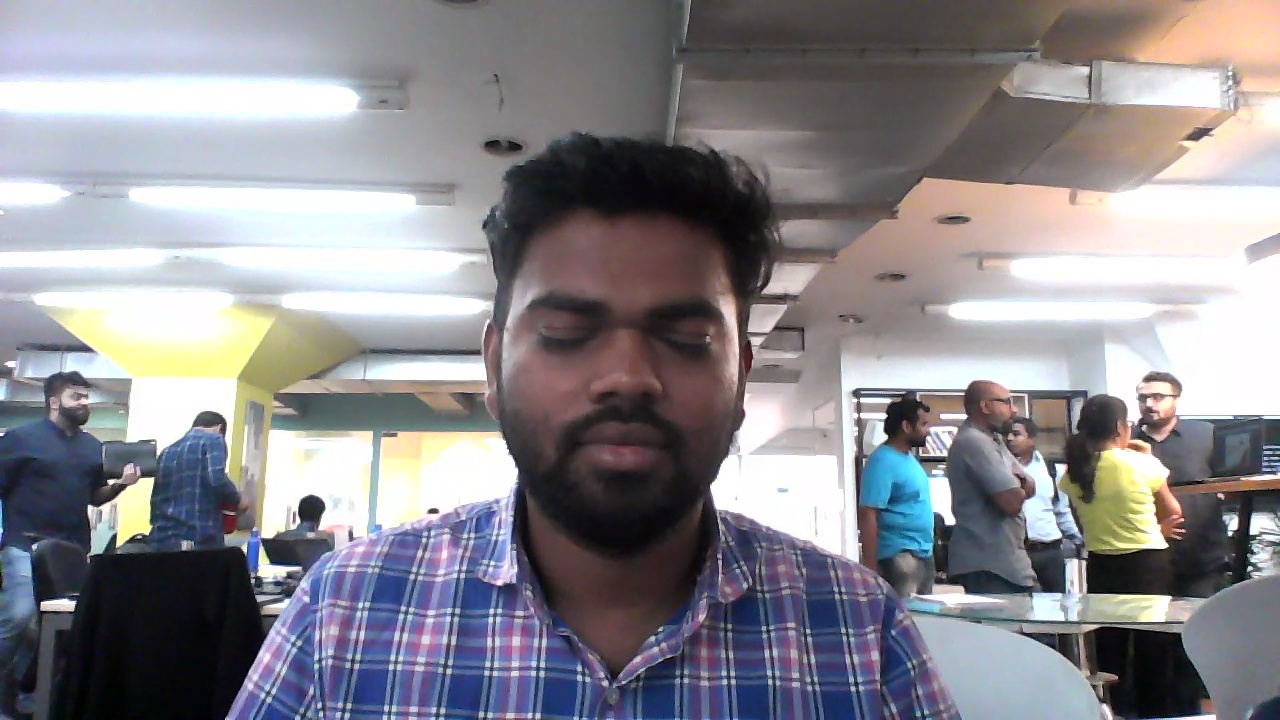closed: (477, 130, 765, 557)
